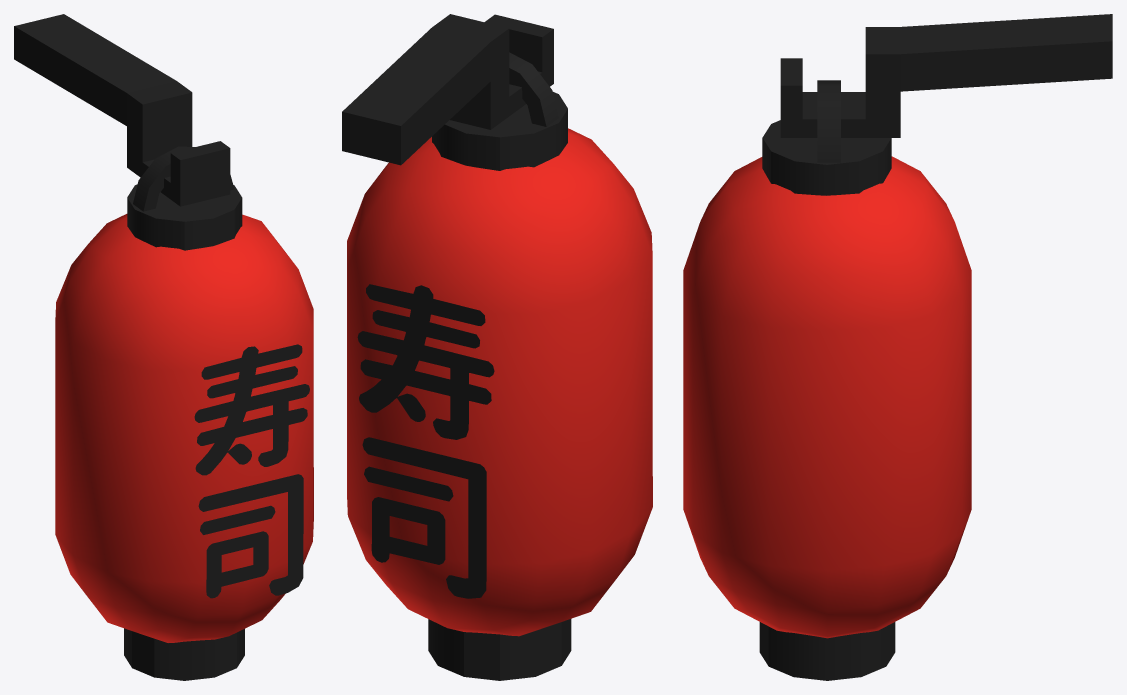
The model's file is Decoration Wall Light.glb.
The picture shows the model from 3 angles, left to right: view 1: azimuth 30°, elevation 25°; view 2: azimuth 150°, elevation 25°; view 3: azimuth 270°, elevation 25°; orthographic projection. The views are drawn at different scales.
Visible parts, largest first — view 1: Decoration_WallLight; view 2: Decoration_WallLight; view 3: Decoration_WallLight.
Boxes of the visible parts, left/top/right/bottom form: Decoration_WallLight: left=14, top=14, right=313, bottom=680; Decoration_WallLight: left=342, top=14, right=652, bottom=680; Decoration_WallLight: left=683, top=14, right=1112, bottom=680.
Size of the model in its own units: 0.734 by 1.73 by 1.1.
Materials: 1 (1 with a texture image).
